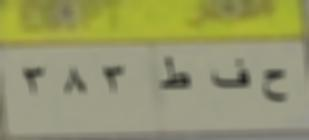3: (17, 62, 48, 100), (100, 62, 128, 97)
7aa: (260, 66, 289, 110)
8: (58, 65, 87, 103)
Taa: (157, 58, 191, 98)
faa: (208, 57, 252, 96)
